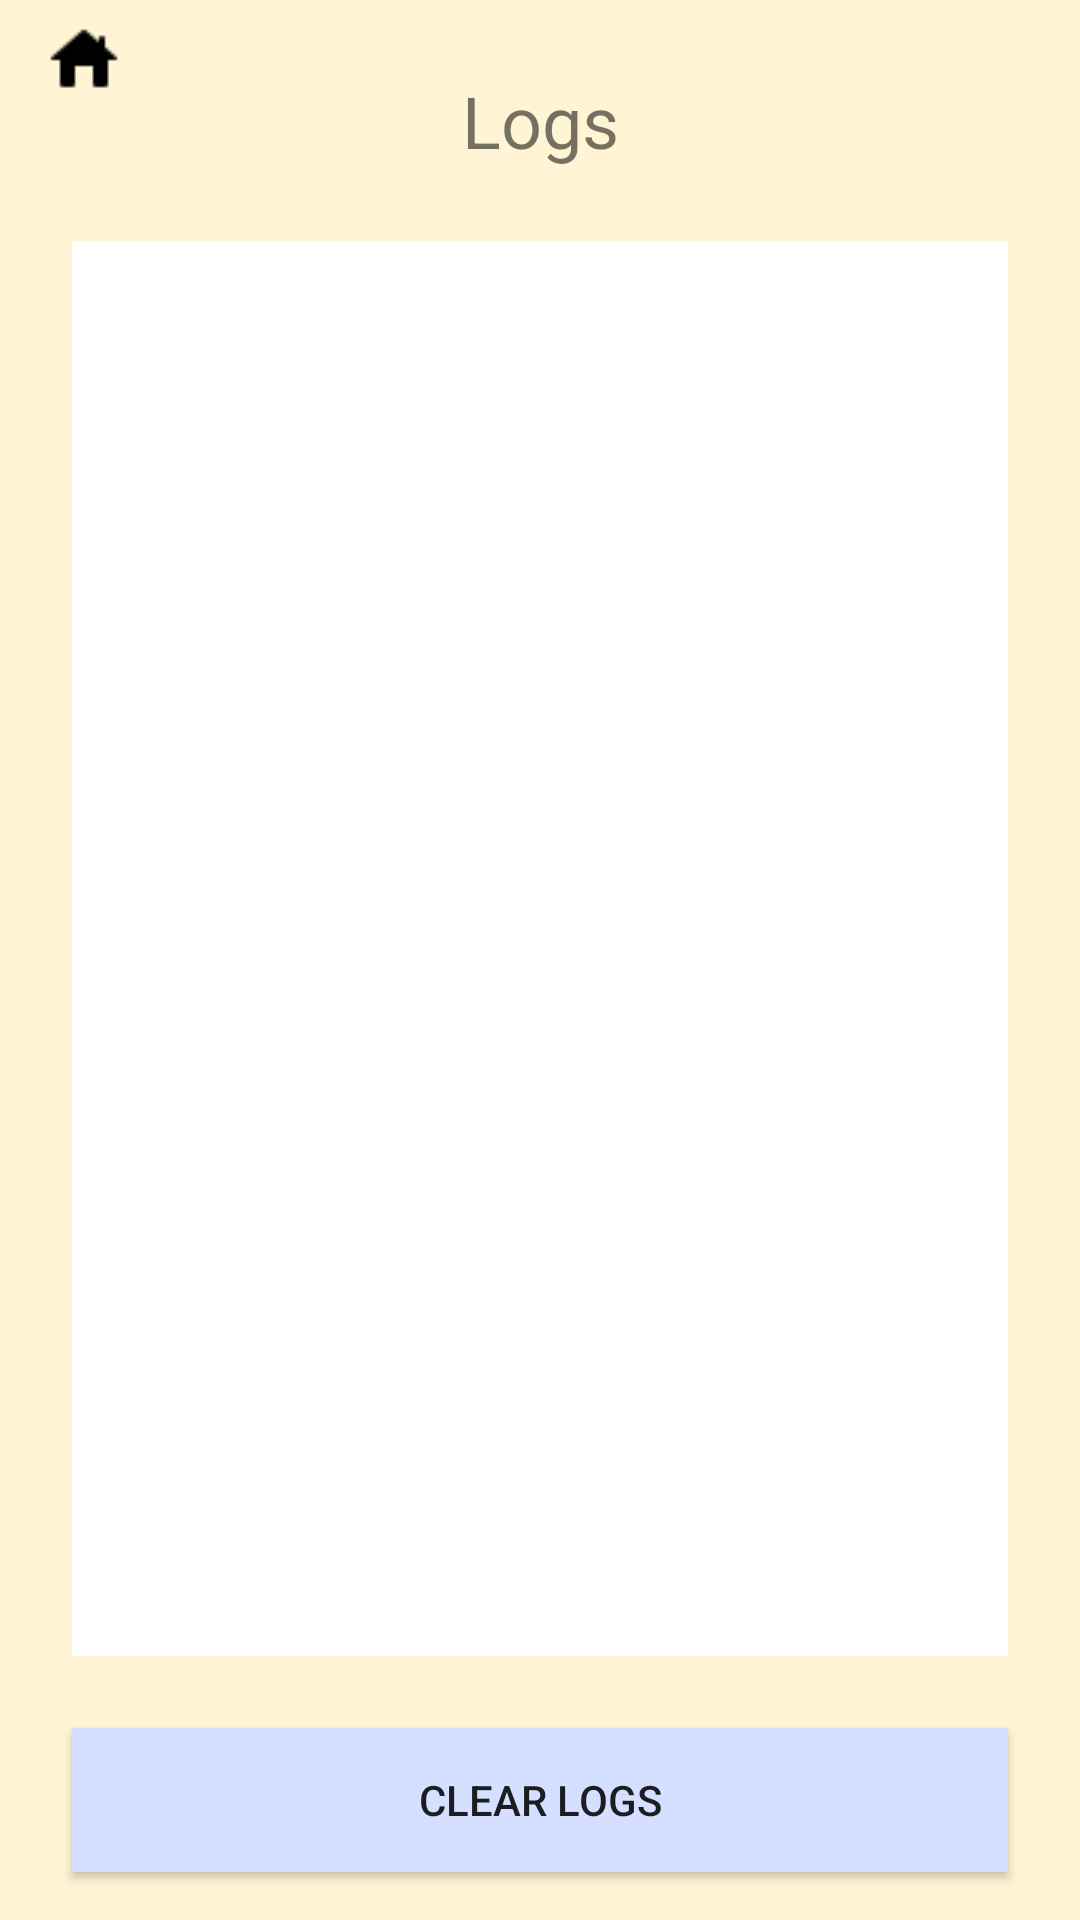

Named icons in this screenshot (1080*1920) and their centers, (x=x, y=y):
Go to Home Page: (x=84, y=58)
